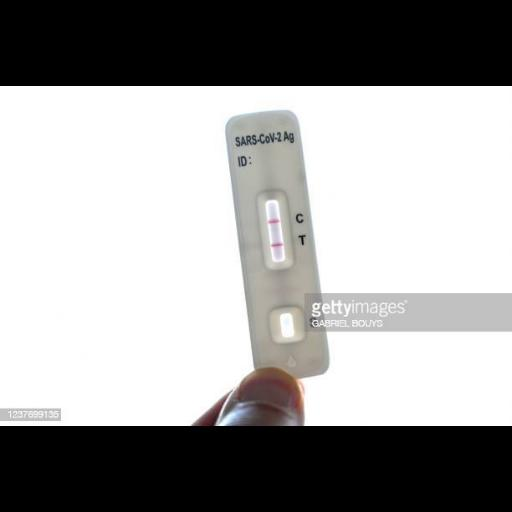Pos: (222, 107, 330, 379)
